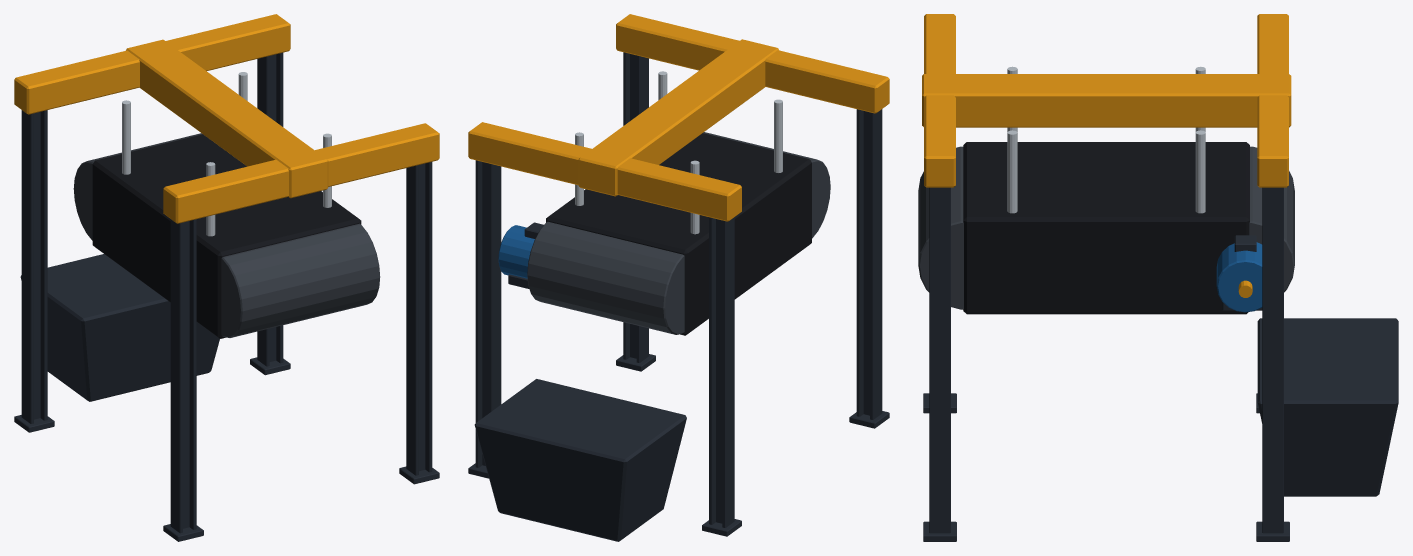
File: overband_magnet_om101.glb
3 renders of one model, left to right at view 1: azimuth 30°, elevation 25°; view 2: azimuth 150°, elevation 25°; view 3: azimuth 270°, elevation 25°, orthographic. The views are drawn at different scales.
Parts seen in each view (by area): view 1: OM_CleatedBelt; view 2: OM_CleatedBelt; view 3: OM_CleatedBelt.
Part boxes in pixels (x1,y1,x2,y2): OM_CleatedBelt: (14,14,439,541); OM_CleatedBelt: (468,14,889,541); OM_CleatedBelt: (918,14,1398,541).
Size of the model in its own units: 2.35 by 2.95 by 3.32.
1 material, 1 textured.
